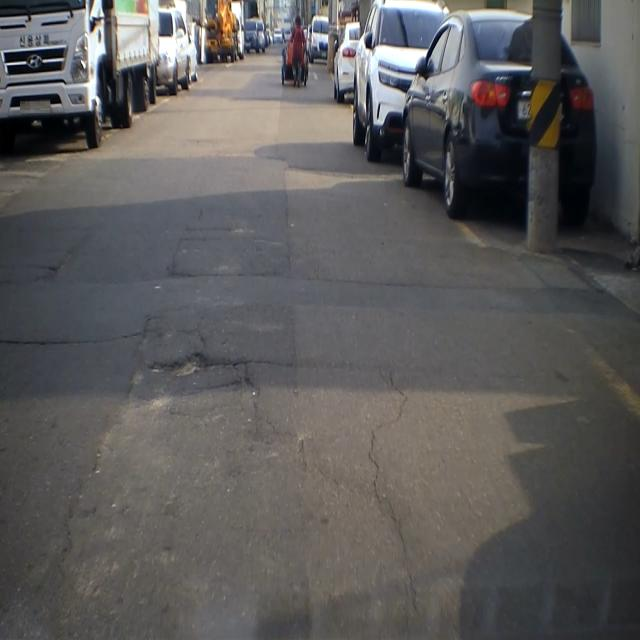Pothole: (147, 346, 252, 397)
